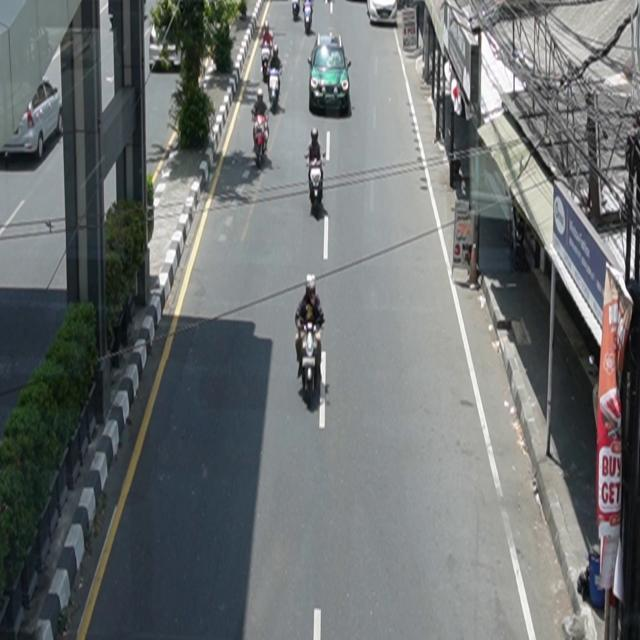car: (3, 79, 63, 161), (309, 33, 353, 115), (368, 1, 399, 26)
